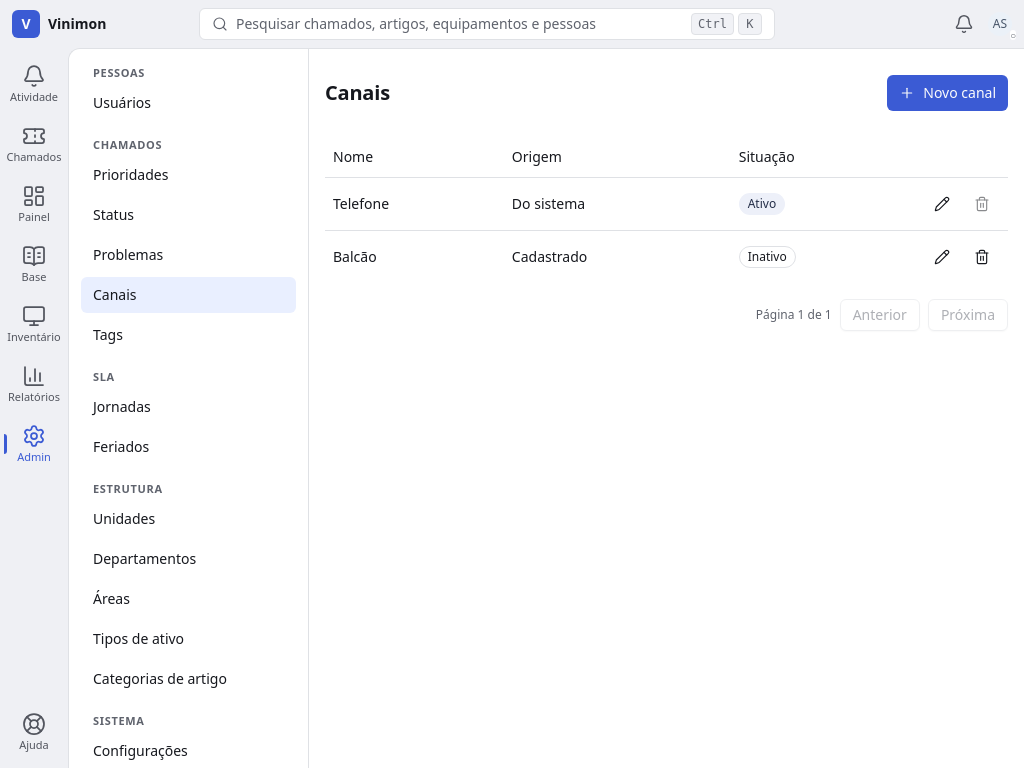
Test: /admin/canais › (b) criar faz POST /canais com o body esperado
The width and height of the screenshot is (1024, 768).
Click the button "Novo canal": (948, 93) x1=887 y1=75 x2=1008 y2=111
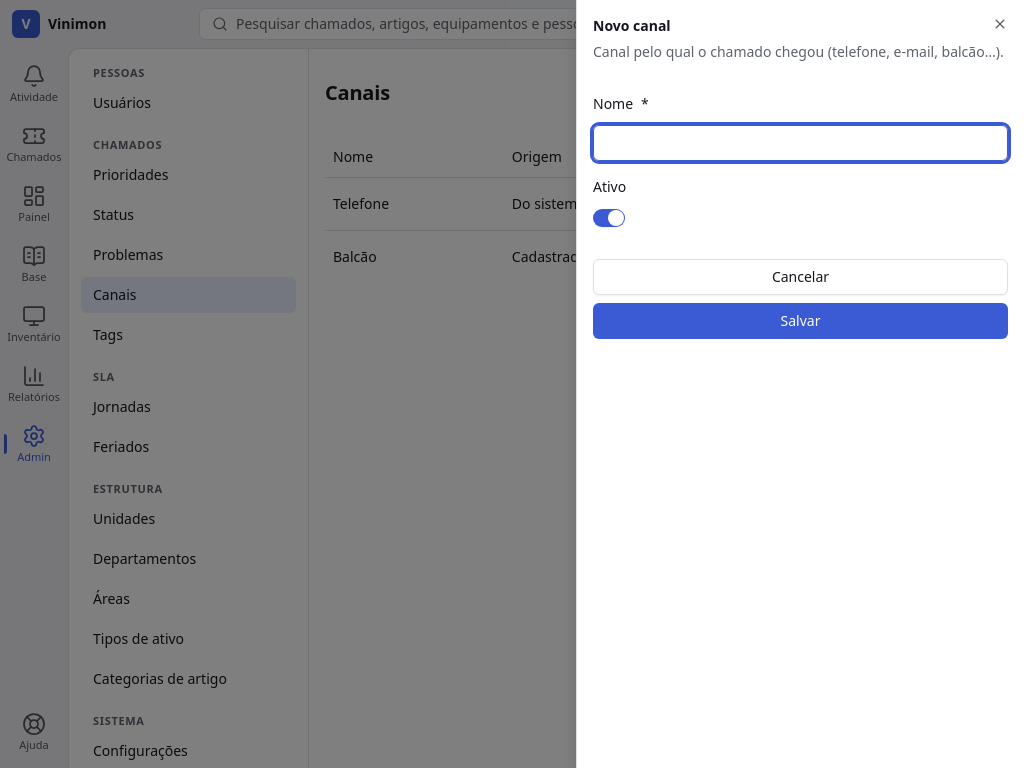
In the field labelled "Nome *": (800, 143) x1=593 y1=125 x2=1008 y2=161, type "Chat"
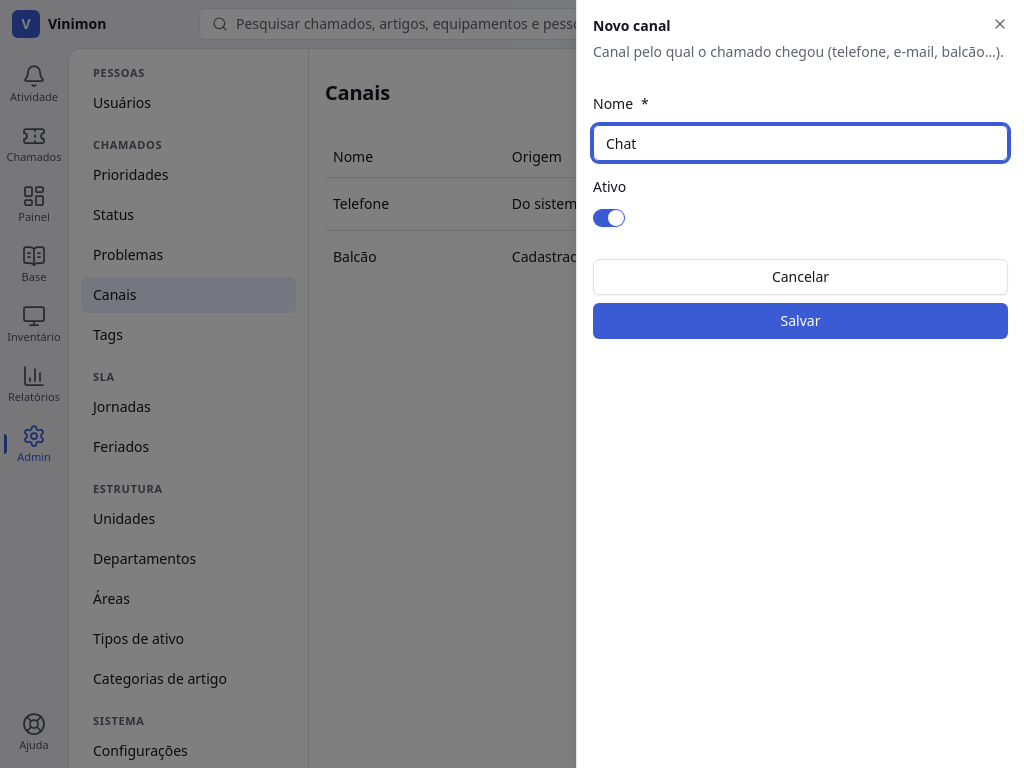
Click the button "Salvar": (800, 321) x1=593 y1=303 x2=1008 y2=339
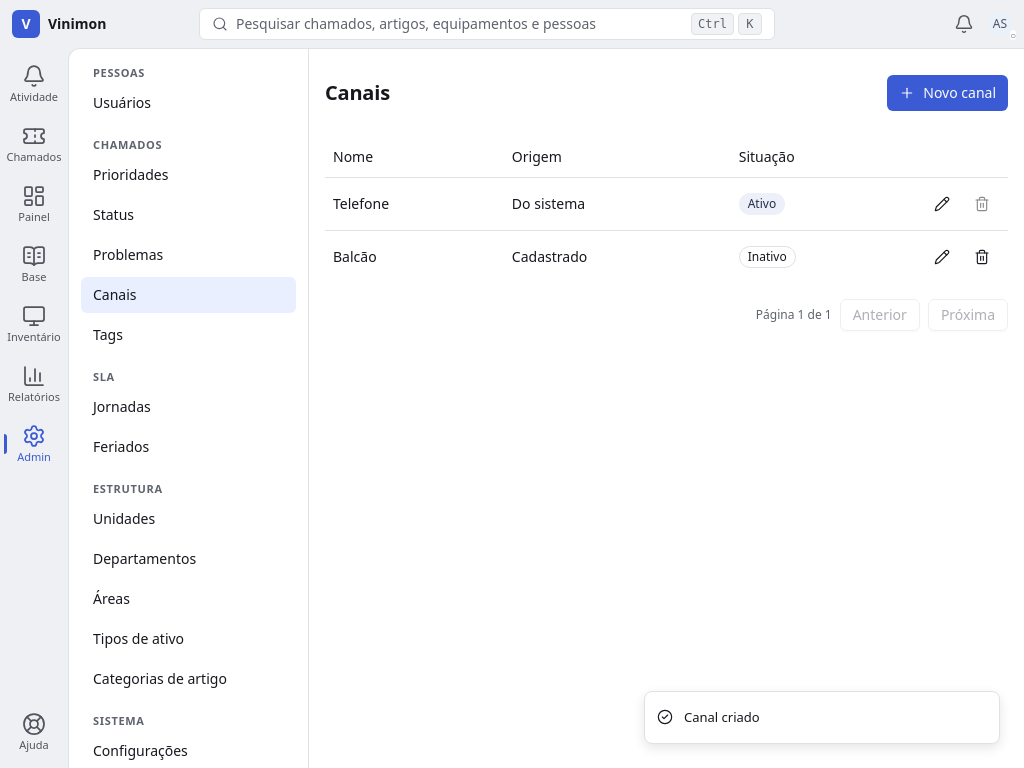
Check: the text "Canal criado" is shown, box x1=684 y1=708 x2=760 y2=727
